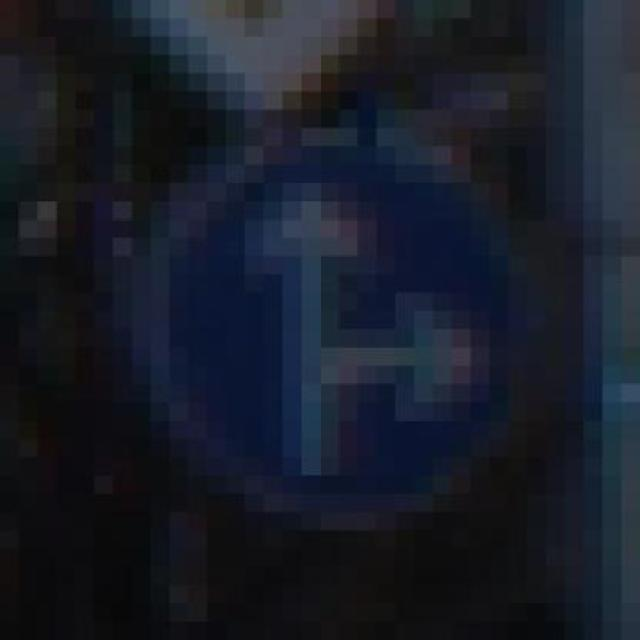Go Straight or Turn Right: (99, 109, 552, 531)
